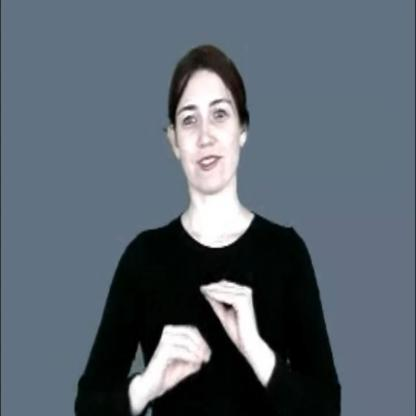Fix: (145, 268, 259, 389)
